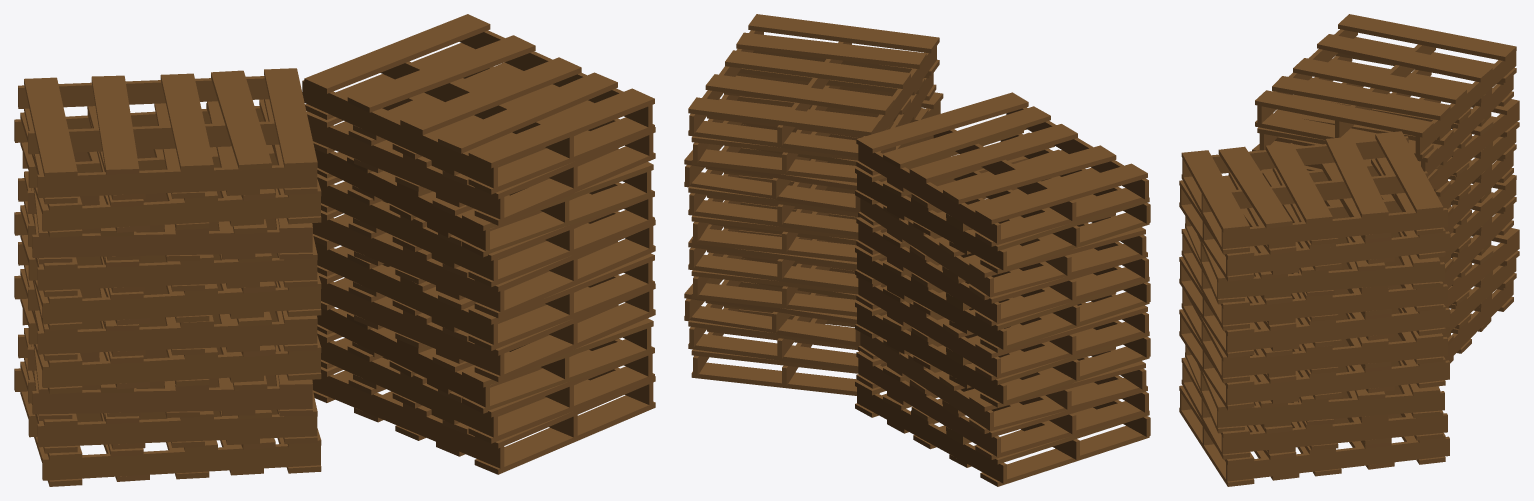
File: Wooden_Plate-1_004.fbx
The picture shows the model from 3 angles, left to right: view 1: azimuth 30°, elevation 25°; view 2: azimuth 150°, elevation 25°; view 3: azimuth 270°, elevation 25°; orthographic projection. The views are drawn at different scales.
Visible parts, largest first — view 1: Wooden Plate-5; view 2: Wooden Plate-5; view 3: Wooden Plate-5.
Boxes of the visible parts, left/top/right/bottom form: Wooden Plate-5: left=14, top=14, right=655, bottom=486; Wooden Plate-5: left=684, top=14, right=1150, bottom=486; Wooden Plate-5: left=1179, top=14, right=1519, bottom=486.
Bounding box in the file's own units: 3.65 × 2 × 2.4.
